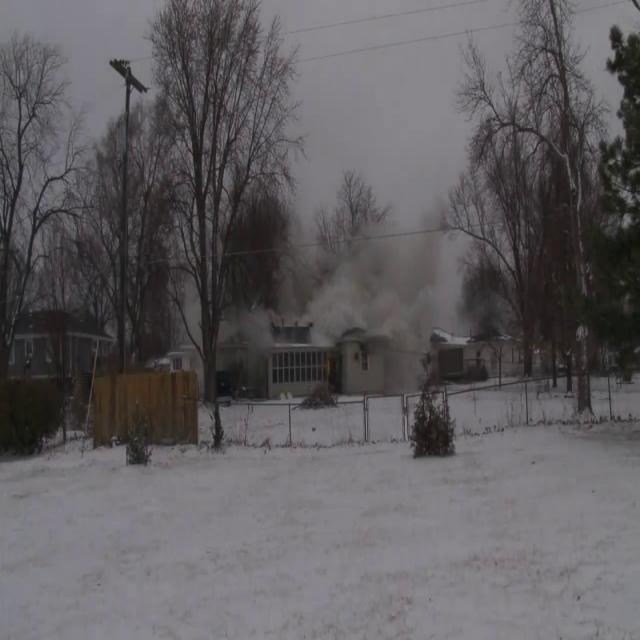Smoke: (279, 164, 481, 374)
